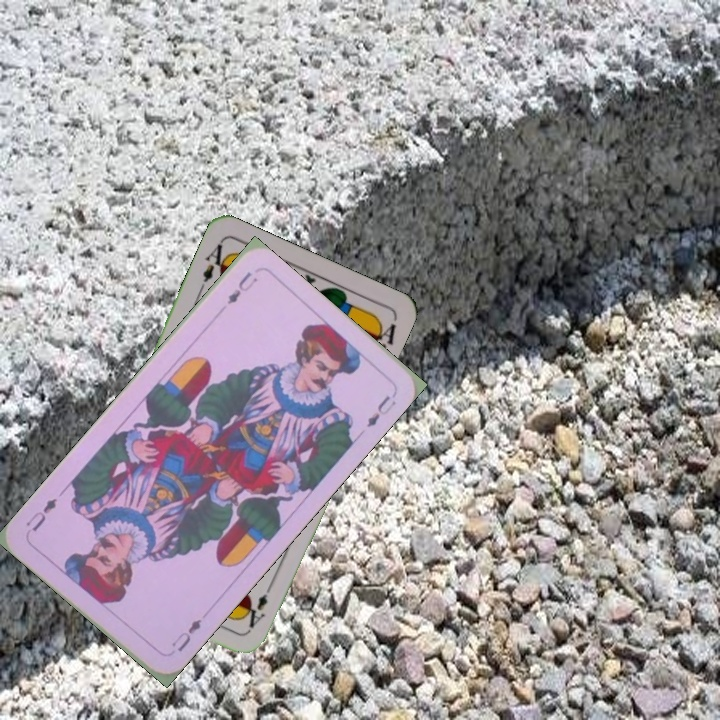EA: (244, 578, 276, 634), (198, 237, 233, 285)
EU: (167, 614, 204, 655), (223, 267, 260, 307)
